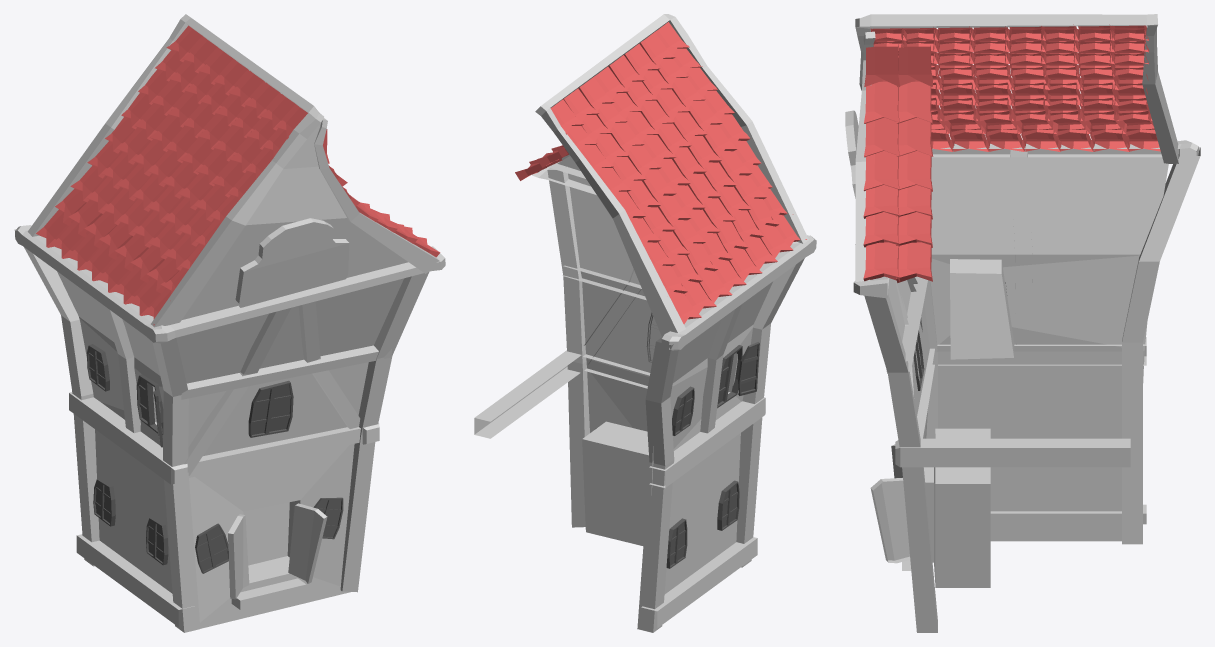
The model's file is taverne_version_finale_j'espère.fbx.
The picture shows the model from 3 angles, left to right: view 1: azimuth 30°, elevation 25°; view 2: azimuth 150°, elevation 25°; view 3: azimuth 270°, elevation 25°; orthographic projection. The views are drawn at different scales.
Parts seen in each view (by area): view 1: Tuiles4; view 2: Tuiles4; view 3: Tuiles4.
Part boxes in pixels (x1,y1,x2,y2): Tuiles4: (14,14,445,632); Tuiles4: (474,14,816,632); Tuiles4: (845,14,1200,632).
Size of the model in its own units: 6.13 by 10.65 by 5.88.
